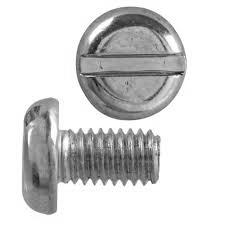screw: (77, 6, 186, 121)
